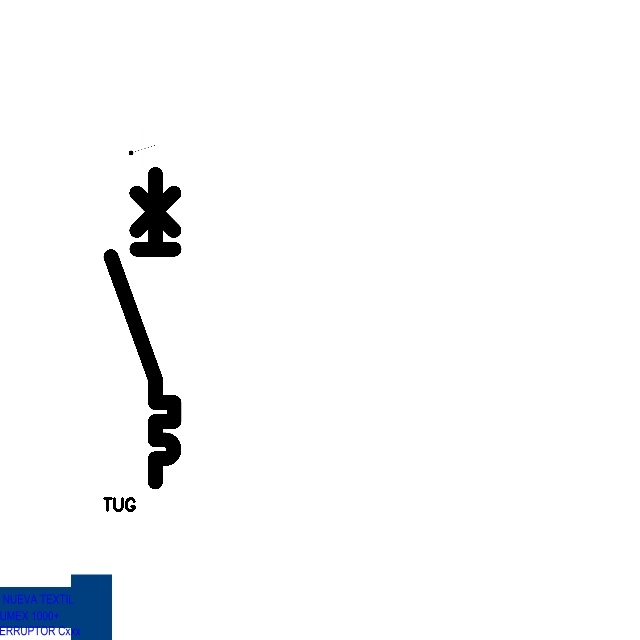interruptor_termomagnetico: (103, 166, 182, 490)
